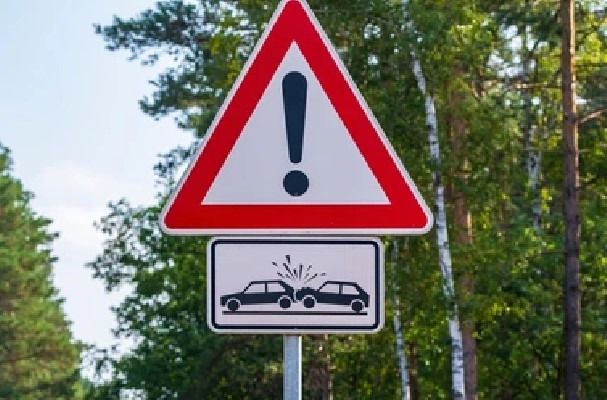Danger: (154, 1, 436, 244)
